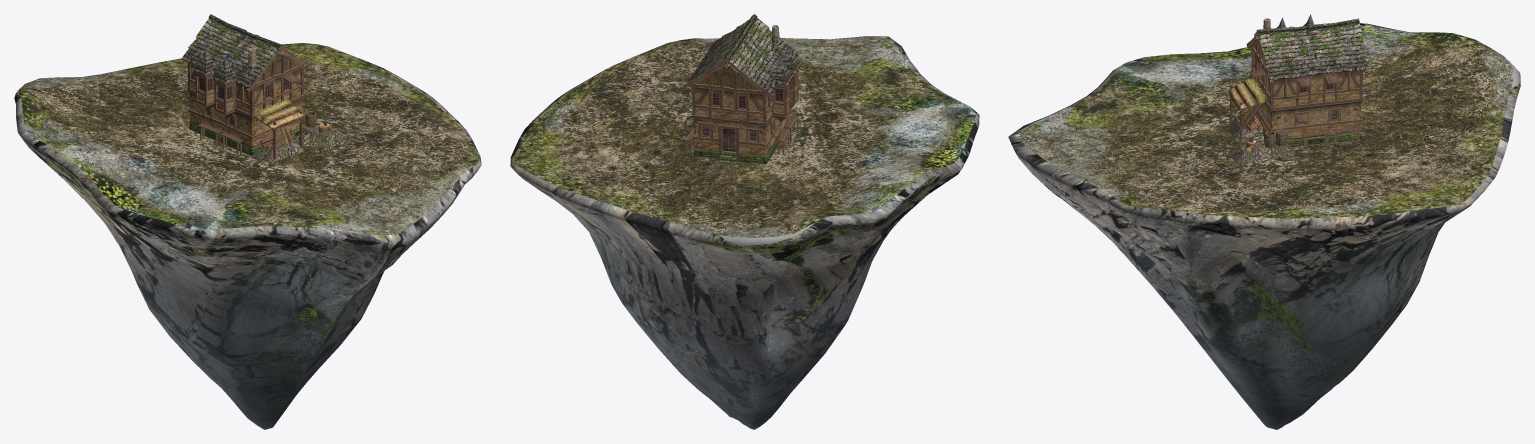
Rendered from house.dae.
The picture shows the model from 3 angles, left to right: view 1: azimuth 30°, elevation 25°; view 2: azimuth 150°, elevation 25°; view 3: azimuth 270°, elevation 25°; orthographic projection. The views are drawn at different scales.
Visible parts, largest first — view 1: ground, walls, roof; view 2: ground, walls, roof; view 3: ground, walls, roof.
Part boxes in pixels (<box>): ground: <box>14,43,481,429</box>; walls: <box>180,46,346,161</box>; roof: <box>181,14,304,128</box>; ground: <box>510,36,979,429</box>; walls: <box>683,25,799,164</box>; roof: <box>686,14,801,93</box>; ground: <box>1008,23,1520,429</box>; walls: <box>1228,14,1368,163</box>; roof: <box>1228,18,1367,109</box>.
Size of the model in its own units: 43.03 by 50.53 by 43.98.
